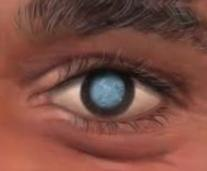eye: (80, 69, 135, 118)
